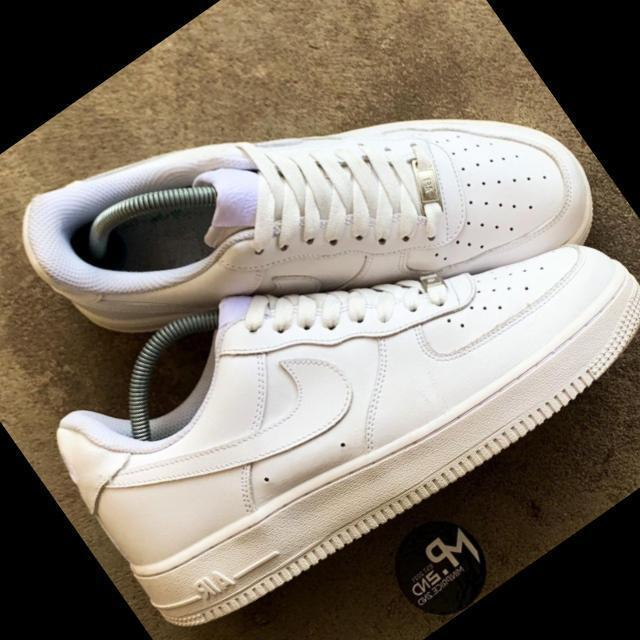nike original air force: (20, 82, 640, 640), (4, 0, 622, 498)
